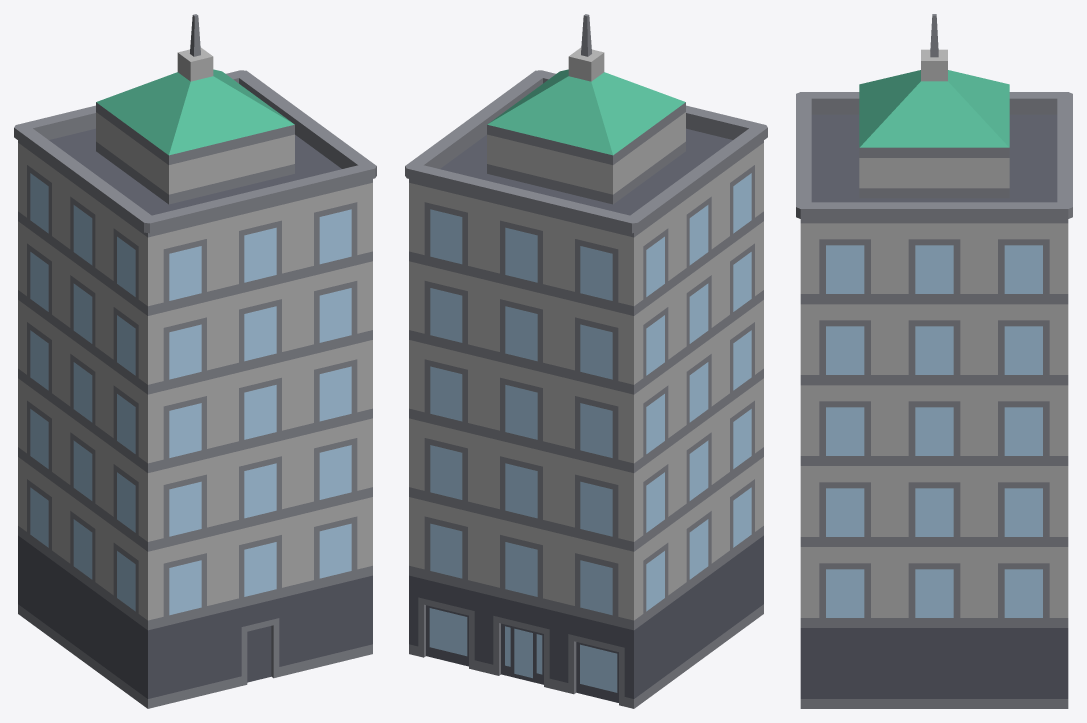
Rendered from skyscraperE.fbx.
The picture shows the model from 3 angles, left to right: view 1: azimuth 30°, elevation 25°; view 2: azimuth 150°, elevation 25°; view 3: azimuth 270°, elevation 25°; orthographic projection. The views are drawn at different scales.
Visible parts, largest first — view 1: skyscraperE; view 2: skyscraperE; view 3: skyscraperE.
Boxes of the visible parts, box(x1,y1,x2,y2) form: skyscraperE: box(14, 14, 376, 708); skyscraperE: box(405, 14, 767, 708); skyscraperE: box(796, 14, 1072, 708).
Bounding box in the file's own units: 12.4 × 31.5 × 12.4.
